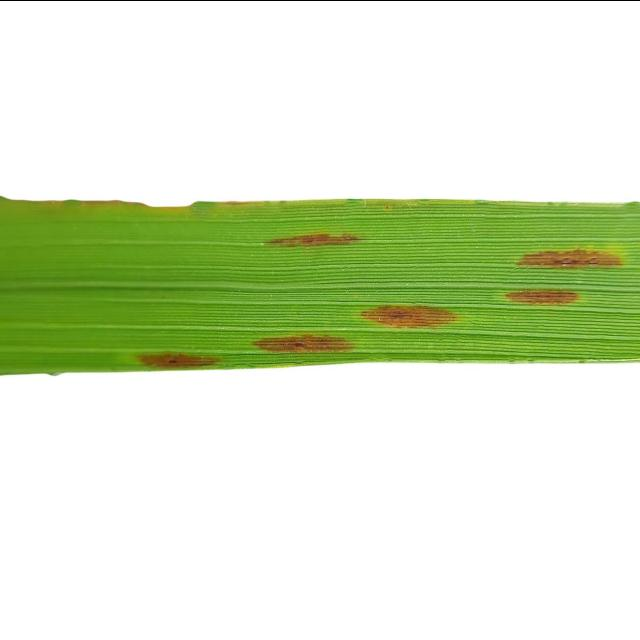Narrow brown: (0, 174, 640, 385)
